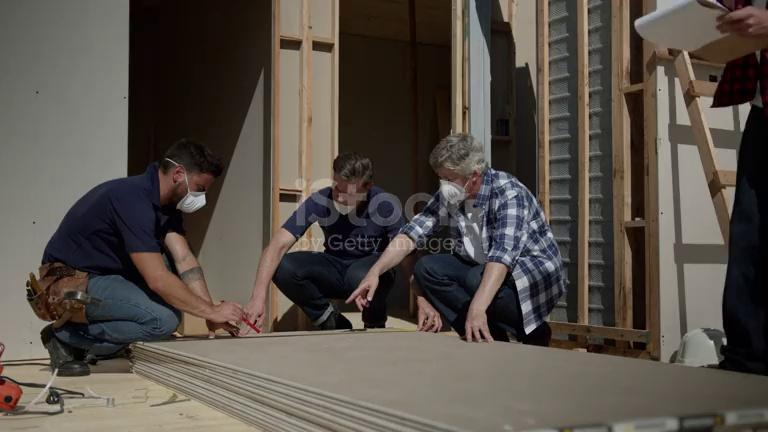mask: (430, 179, 468, 205), (176, 188, 207, 213), (331, 197, 351, 215)
person: (32, 138, 249, 377), (344, 131, 570, 346), (246, 152, 442, 333), (681, 1, 768, 376)
